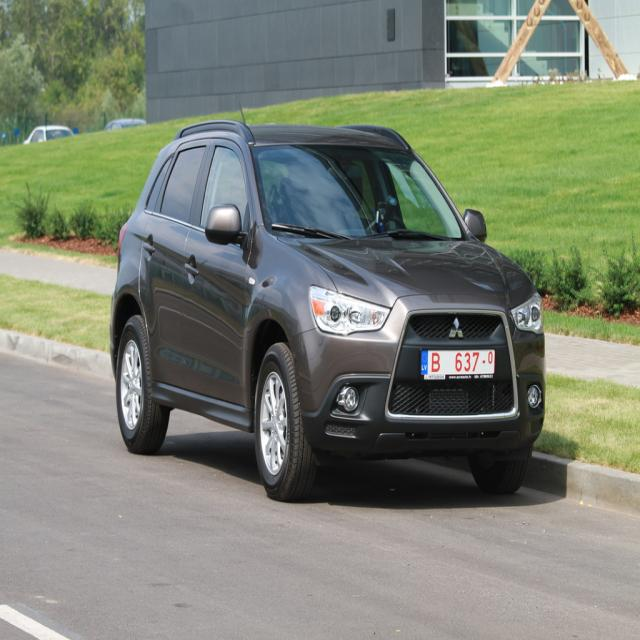car: (108, 115, 551, 504), (18, 119, 74, 145), (100, 114, 144, 132)
